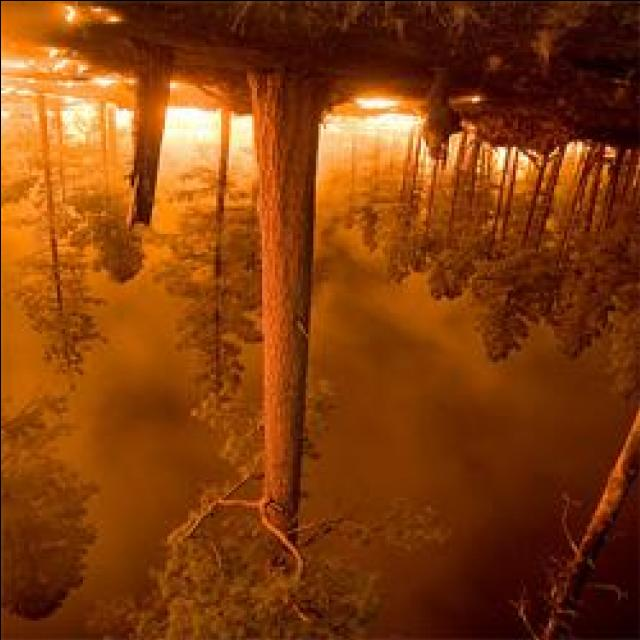fire: (330, 88, 420, 142), (170, 106, 250, 146), (61, 93, 133, 136)
